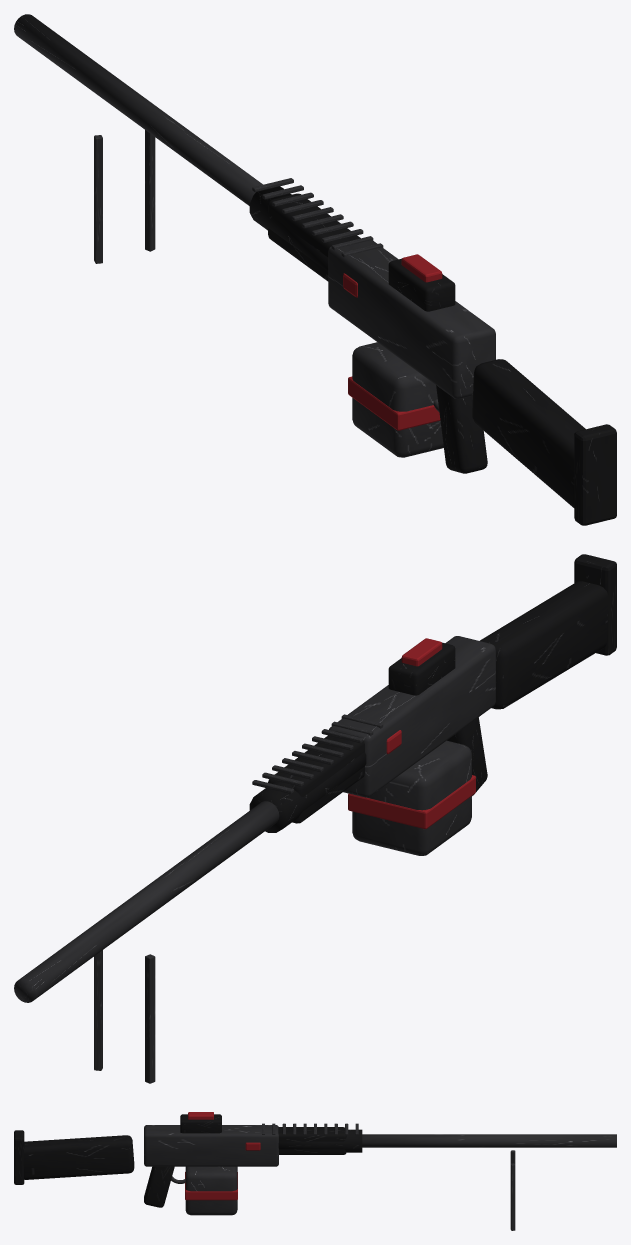
File: weapon-lmg.glb
3 views of the same model, one above another, from view 1: azimuth 30°, elevation 25°; view 2: azimuth 150°, elevation 25°; view 3: azimuth 270°, elevation 25° (orthographic). The views are drawn at different scales.
Visible parts, largest first — view 1: Cube, Cube.012, Cylinder, Cube.015, Cube.013, Cube.014, Cube.001, Cube.017, Cube.016, Cylinder.001, Cube.021, Cube.020 (+1 smaller); view 2: Cube, Cube.012, Cylinder, Cube.015, Cube.001, Cube.016, Cylinder.001, Cube.017, Cube.013, Cube.020, Cube.014, Cube.021; view 3: Cube, Cube.012, Cylinder, Cube.015, Cube.001, Cylinder.001, Cube.014, Cube.017, Cube.013, Cube.016, Cube.021, Cube.018.
Boxes of the visible parts, <box> form: Cube: <box>328,240,495,398</box>; Cube.012: <box>472,359,585,507</box>; Cylinder: <box>14,14,262,205</box>; Cube.015: <box>352,342,443,457</box>; Cube.013: <box>574,424,616,525</box>; Cube.014: <box>436,385,487,473</box>; Cube.001: <box>268,193,360,281</box>; Cube.017: <box>388,258,455,311</box>; Cube.016: <box>348,376,440,430</box>; Cylinder.001: <box>249,186,328,271</box>; Cube.021: <box>145,130,155,251</box>; Cube.020: <box>94,135,102,263</box>; Cube: <box>329,636,495,797</box>; Cube.012: <box>480,581,608,709</box>; Cylinder: <box>14,801,279,1002</box>; Cube.015: <box>352,740,471,855</box>; Cube.001: <box>268,731,364,823</box>; Cube.016: <box>348,775,475,829</box>; Cylinder.001: <box>249,752,366,832</box>; Cube.017: <box>388,642,455,695</box>; Cube.013: <box>574,554,616,655</box>; Cube.020: <box>145,954,155,1083</box>; Cube.014: <box>447,717,487,795</box>; Cube.021: <box>94,950,102,1070</box>; Cube: <box>144,1125,278,1166</box>; Cube.012: <box>23,1135,134,1179</box>; Cylinder: <box>362,1134,616,1147</box>; Cube.015: <box>185,1166,237,1215</box>; Cube.001: <box>278,1127,346,1154</box>; Cylinder.001: <box>278,1129,362,1152</box>; Cube.014: <box>144,1166,174,1207</box>; Cube.017: <box>180,1114,221,1133</box>; Cube.013: <box>14,1130,24,1184</box>; Cube.016: <box>185,1172,237,1200</box>; Cube.021: <box>510,1163,515,1230</box>; Cube.018: <box>188,1112,213,1119</box>.
Bounding box in the file's own units: 0.092 × 0.233 × 1.16.
Materials: 3 (2 with a texture image).
